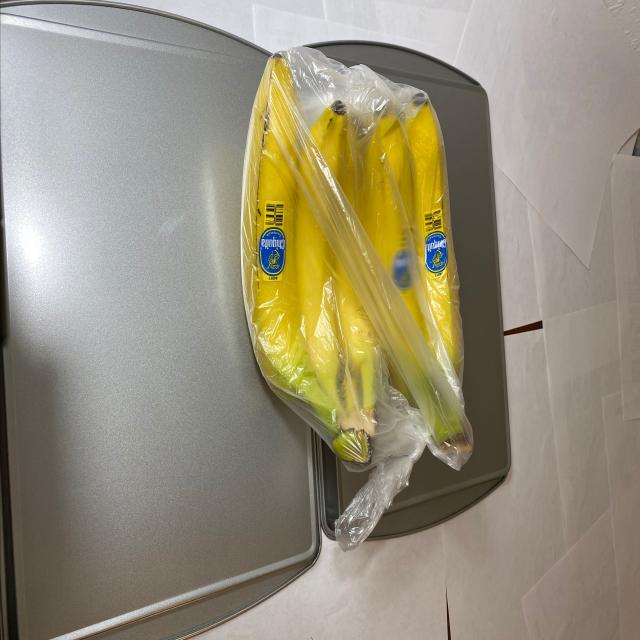banana: (231, 38, 482, 487)
